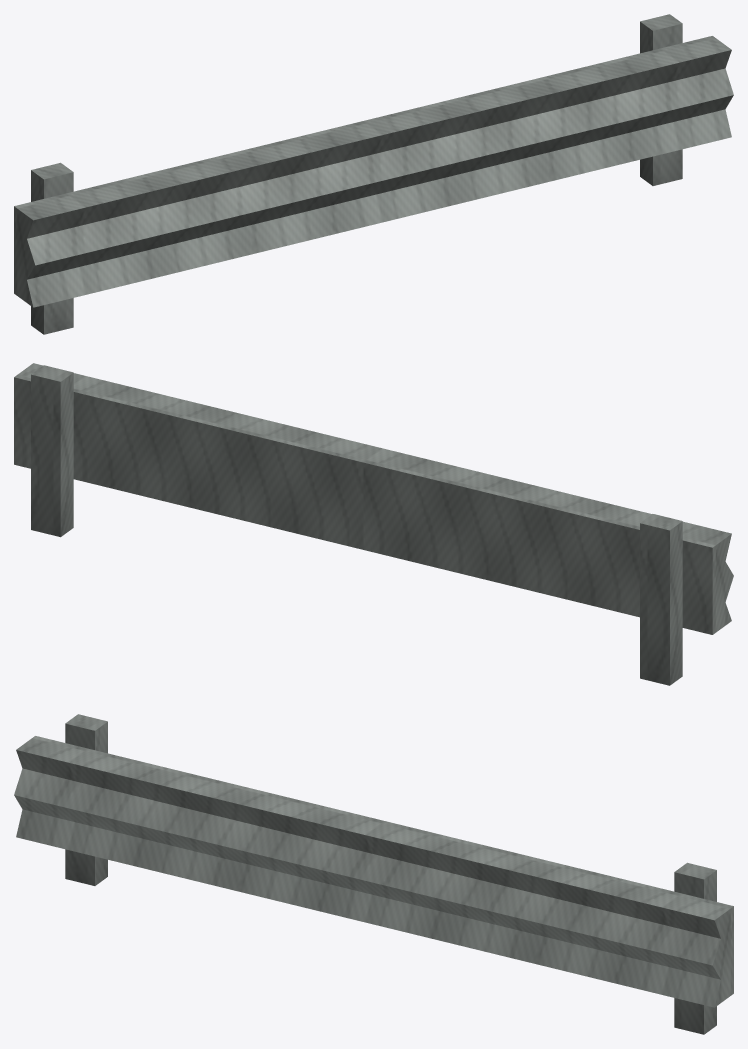
File: armco-white-lod.glb
3 renders of one model, top to bottom at view 1: azimuth 30°, elevation 25°; view 2: azimuth 150°, elevation 25°; view 3: azimuth 330°, elevation 25°, orthographic.
Visible parts, largest first — view 1: armco-white; view 2: armco-white; view 3: armco-white.
Part boxes in pixels (bbox=[...]): armco-white: bbox=[14, 14, 733, 334]; armco-white: bbox=[14, 363, 733, 685]; armco-white: bbox=[14, 714, 733, 1034].
Size of the model in its own units: 4 by 0.85 by 0.34.
Materials: 1 (1 with a texture image).
